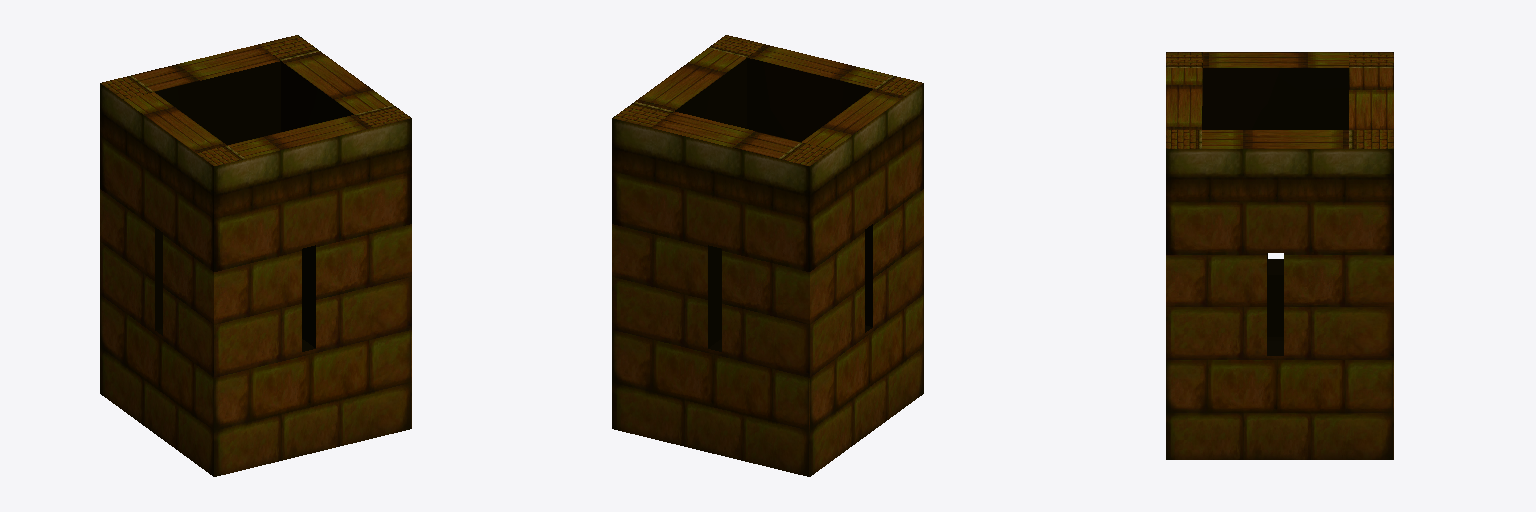
3 renders of one model, left to right at view 1: azimuth 30°, elevation 25°; view 2: azimuth 150°, elevation 25°; view 3: azimuth 270°, elevation 25°, orthographic.
Parts seen in each view (by area): view 1: Cube; view 2: Cube; view 3: Cube.
Boxes of the visible parts, x1=… form: Cube: x1=100, y1=35, x2=411, y2=476; Cube: x1=612, y1=35, x2=923, y2=476; Cube: x1=1166, y1=52, x2=1393, y2=459.
Size of the model in its own units: 2 by 3 by 2.
Materials: 2 (1 with a texture image).